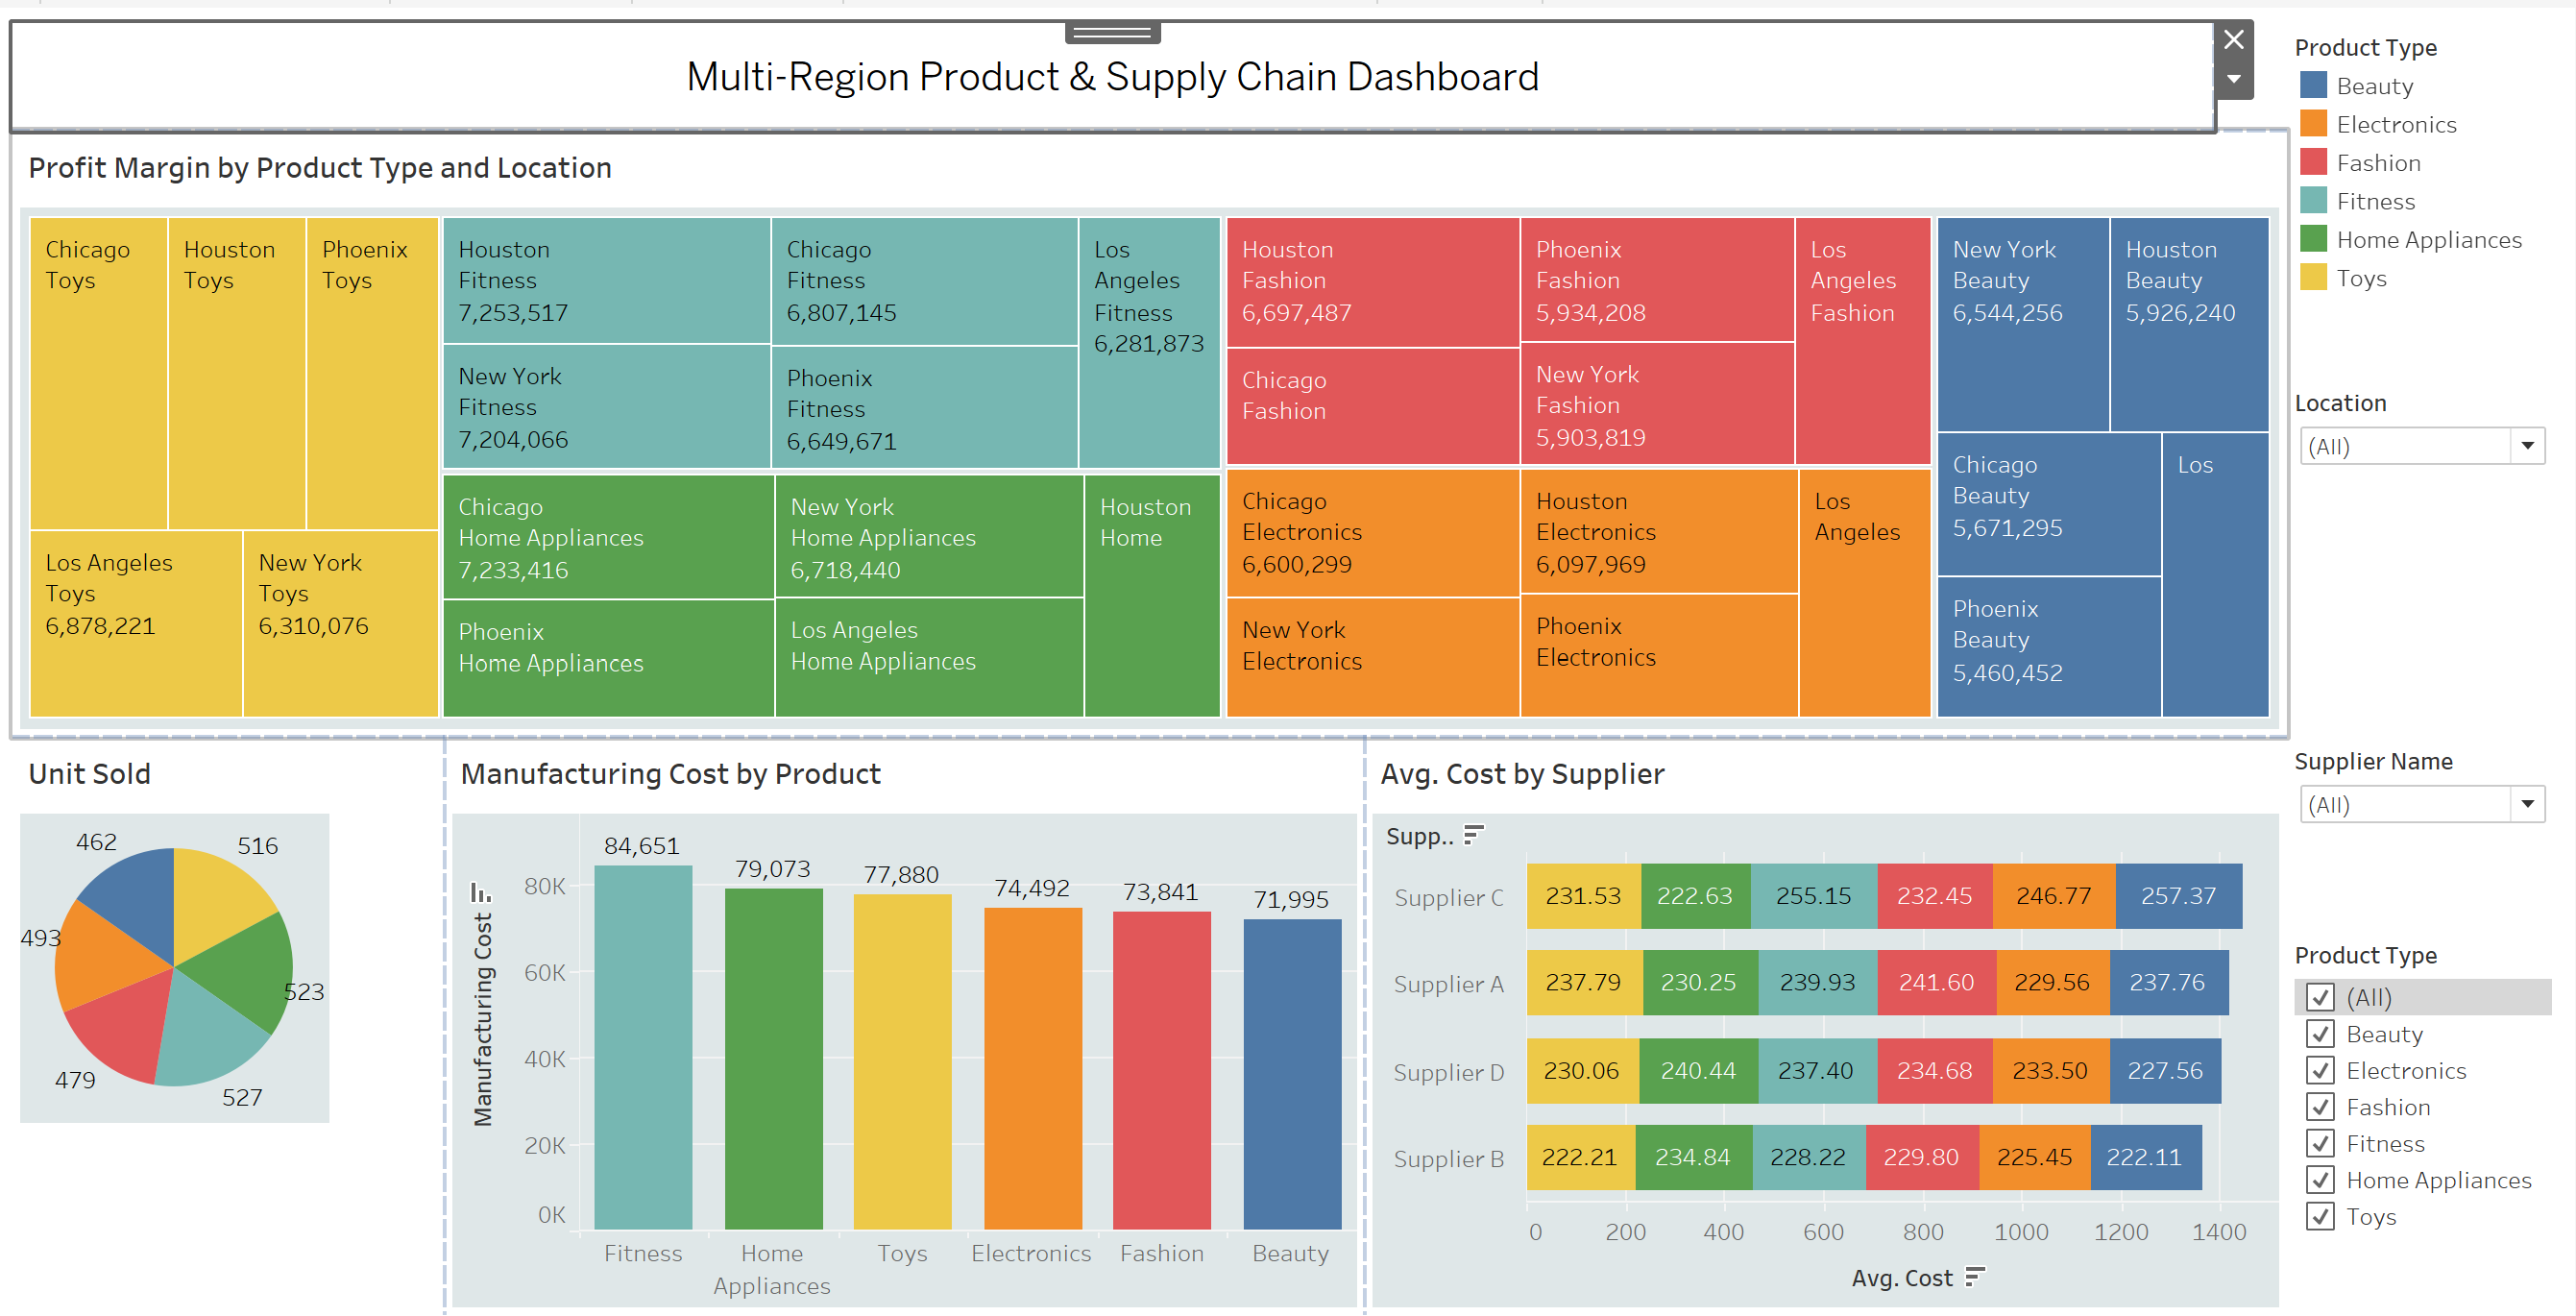

Layout of this report page (visuals, bound fields, positions):
{"tool":"tableau","page":{"name":"Dashboard 1","canvas":[1000,1000],"units":"permille","ordinal":0},"visuals":[{"type":"text","box":[6,11.6,853.6,81.4]},{"type":"legend","title":"Sheet 3","param":"[federated.0hcnnbj1epby5a19au11x1piv8am].[none:Product Type:nk]","box":[888.2,11.6,105.8,269.6]},{"type":"worksheet","title":"Sheet 2","mark":"Automatic","box":[6,93,882.3,457.9]},{"type":"filter","title":"Sheet 3","param":"[federated.0hcnnbj1epby5a19au11x1piv8am].[none:Location:nk]","box":[888.2,281.2,105.8,269.6]},{"type":"worksheet","title":"Sheet 5","mark":"Pie","box":[6,550.9,167.7,437.5]},{"type":"worksheet","title":"Sheet 3","mark":"Automatic","rows":["Manufacturing Cost"],"cols":["Product Type"],"box":[173.6,550.9,357.3,437.5]},{"type":"worksheet","title":"Sheet 1","mark":"Automatic","rows":["Supplier Name"],"cols":["Calculation_1782862567269842944"],"box":[530.9,550.9,357.3,437.5]},{"type":"filter","title":"Sheet 3","param":"[federated.0hcnnbj1epby5a19au11x1piv8am].[none:Supplier Name:nk]","box":[888.2,550.9,105.8,146.8]},{"type":"filter","title":"Sheet 3","param":"[federated.0hcnnbj1epby5a19au11x1piv8am].[none:Product Type:nk]","box":[888.2,697.7,105.8,290.7]}]}

Visuals, with their boxes on the dashboard's canvas, which has no fixed pixel size, in thousandths of its width and height (x1, y1, x2, y2). These are canvas units, not pixel positions in the 2576x1316 screenshot, which may show the page scaled, cropped or inside an application window:
text: (left=6, top=12, right=860, bottom=93)
"Sheet 3" legend: (left=888, top=12, right=994, bottom=281)
"Sheet 2" worksheet: (left=6, top=93, right=888, bottom=551)
"Sheet 3" filter: (left=888, top=281, right=994, bottom=551)
"Sheet 5" worksheet (Pie marks): (left=6, top=551, right=174, bottom=988)
"Sheet 3" worksheet: (left=174, top=551, right=531, bottom=988)
"Sheet 1" worksheet: (left=531, top=551, right=888, bottom=988)
"Sheet 3" filter: (left=888, top=551, right=994, bottom=698)
"Sheet 3" filter: (left=888, top=698, right=994, bottom=988)
